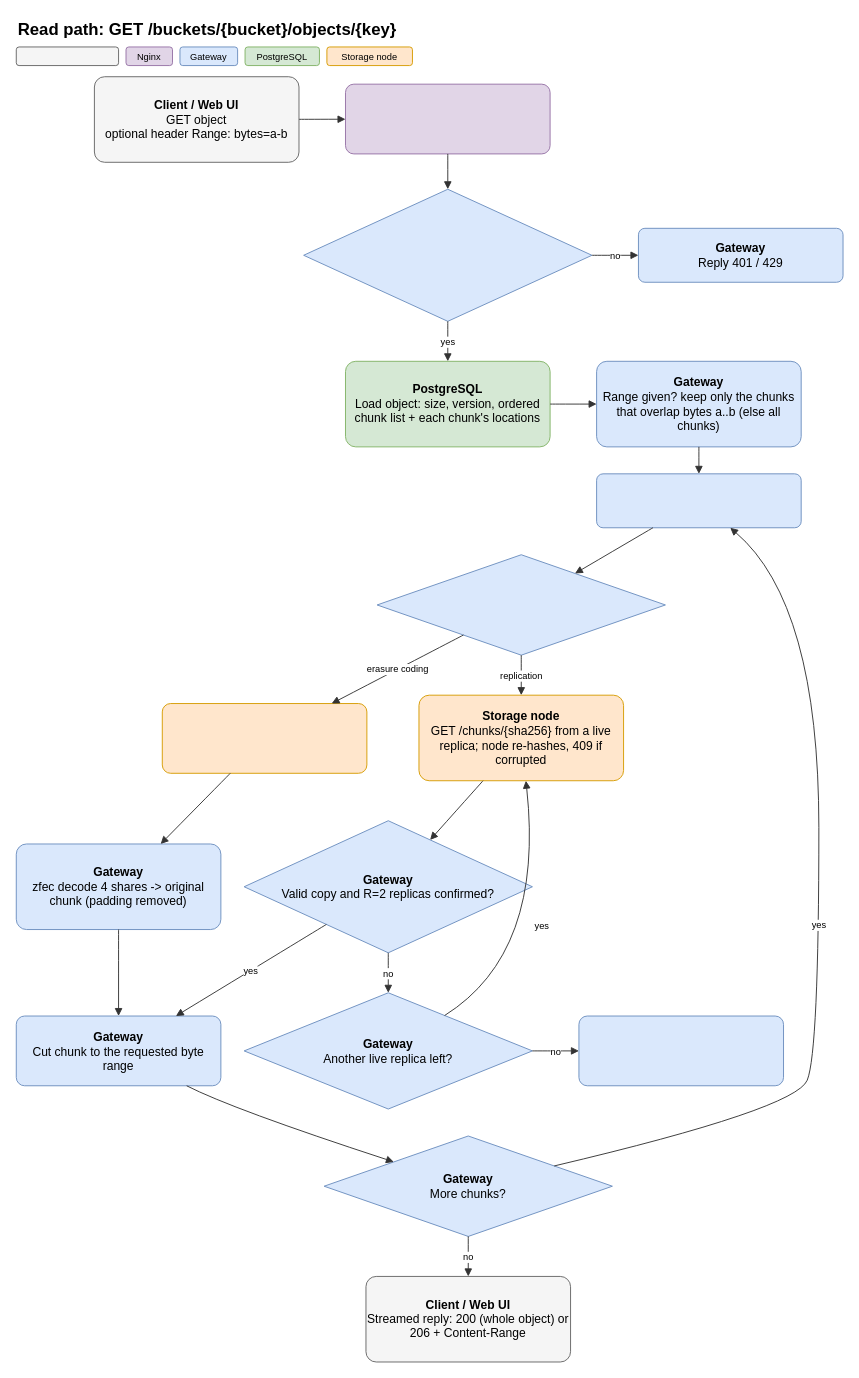
Image size: 859x1378. Some labels were removed from this diagram. The shapes that lost their labels are listed below. From the top down, each one's box as (x1, y1, x2, y2) in pixels, then its label:
(15, 46, 119, 66): Client / Web UI
(345, 83, 550, 154): Nginx Forward to gateway1 or gateway2
(303, 188, 592, 321): Gateway API key valid and under rate limit?
(596, 473, 801, 528): Gateway Take next needed chunk
(376, 554, 665, 655): Gateway Bucket mode?
(161, 703, 367, 773): Storage node GET shares from live nodes until 4 valid shares
(578, 1015, 784, 1086): Gateway Reply 503 read quorum not reached
